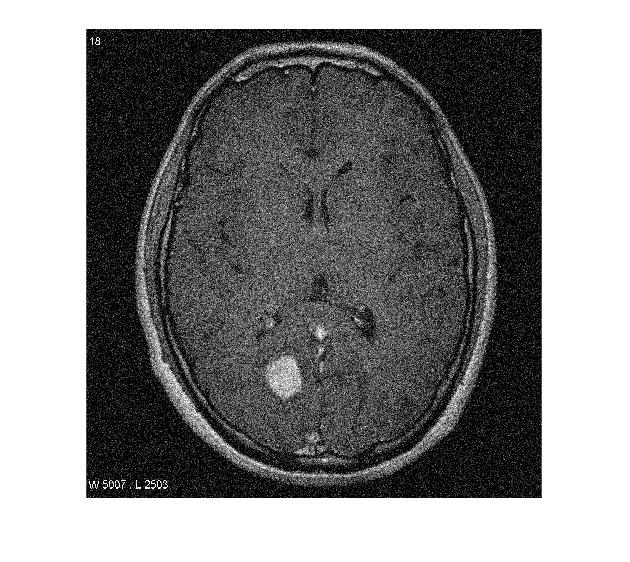Brain_Cancer: (258, 353, 308, 404)
